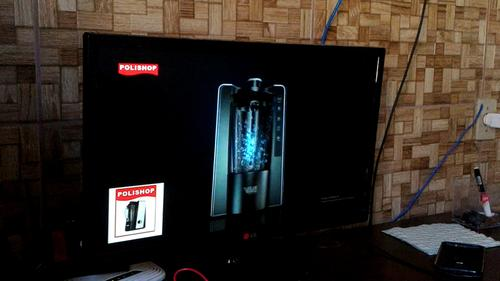Polishop #1: (108, 182, 164, 243)
